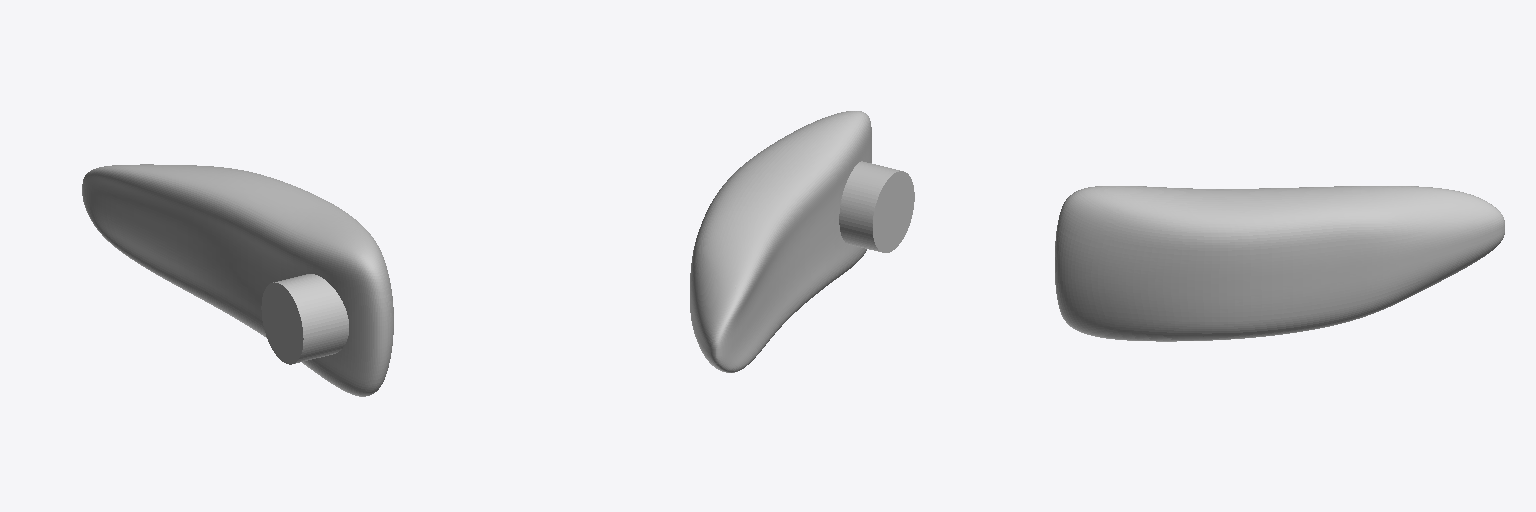
File: eve_arm_left.obj
3 views of the same model, side by side, from view 1: azimuth 30°, elevation 25°; view 2: azimuth 150°, elevation 25°; view 3: azimuth 270°, elevation 25° (orthographic).
Visible parts, largest first — view 1: Right_Arm.001_Right_Arm.002; view 2: Right_Arm.001_Right_Arm.002; view 3: Right_Arm.001_Right_Arm.002.
Boxes of the visible parts, x1,y1,x2,y2 form: Right_Arm.001_Right_Arm.002: [82, 164, 393, 396]; Right_Arm.001_Right_Arm.002: [690, 111, 914, 372]; Right_Arm.001_Right_Arm.002: [1055, 186, 1504, 341].
Size of the model in its own units: 0.1749 by 0.191 by 0.5354.